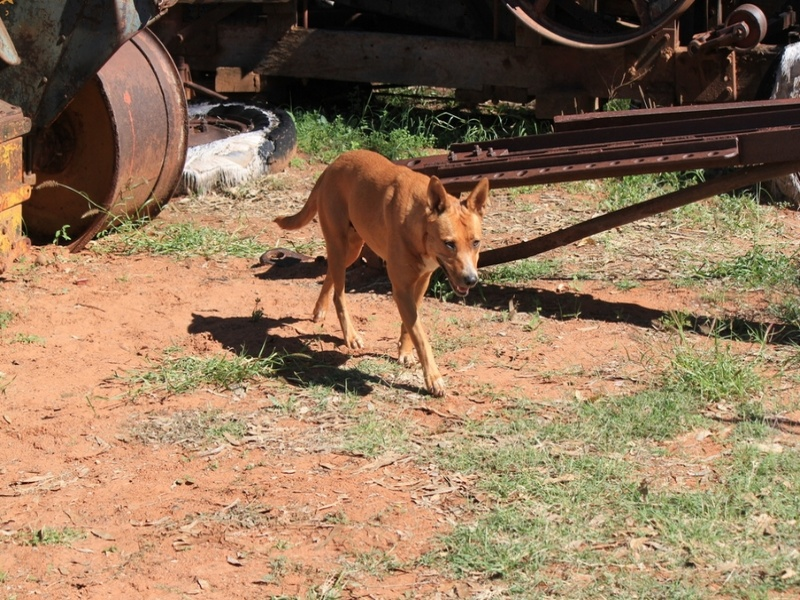dog: (269, 148, 496, 403)
